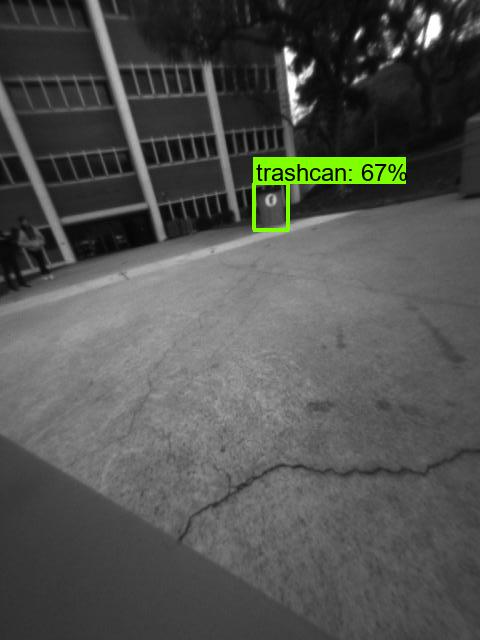trashcan: (255, 182, 289, 228)
